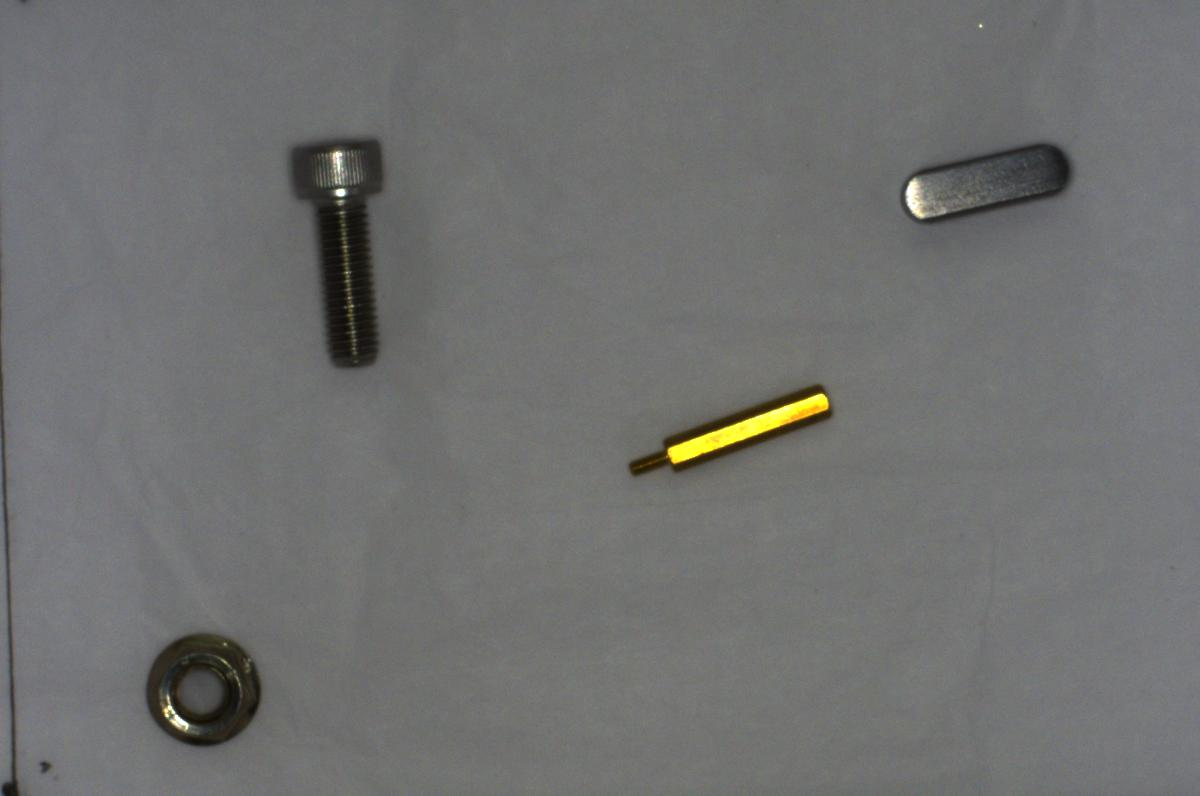Flange nut: (139, 623, 272, 755)
Hexagon pillar: (625, 380, 842, 479)
Hexagon screw: (288, 130, 387, 382)
Keybar: (897, 133, 1077, 230)
